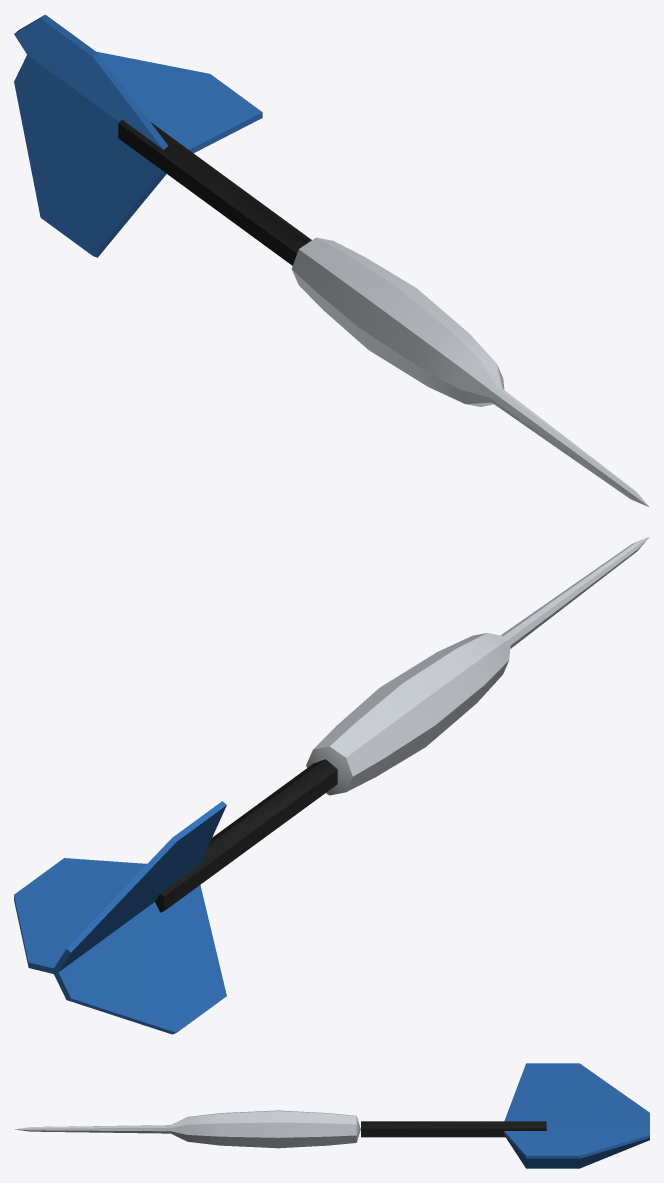
The model's file is dart.glb.
3 views of the same model, one above another, from view 1: azimuth 30°, elevation 25°; view 2: azimuth 150°, elevation 25°; view 3: azimuth 270°, elevation 25° (orthographic). The views are drawn at different scales.
Visible parts, largest first — view 1: dart; view 2: dart; view 3: dart.
Boxes of the visible parts, x1,y1,x2,y2 form: dart: (14,14,648,506); dart: (14,536,649,1034); dart: (15,1063,649,1168).
Bounding box in the file's own units: 0.0243 × 0.0281 × 0.154.
